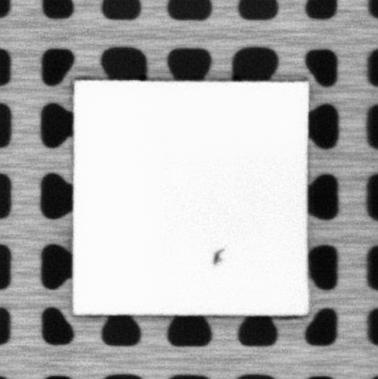DIE_INK: (210, 246, 226, 266)
